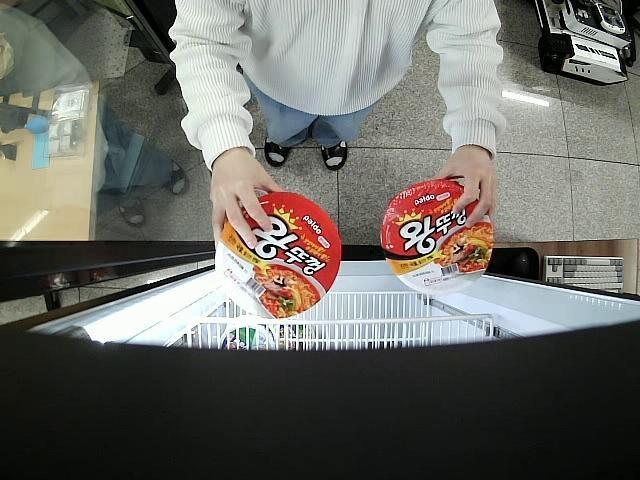10_wangTtukkeong: (216, 191, 342, 320), (379, 179, 493, 295)
